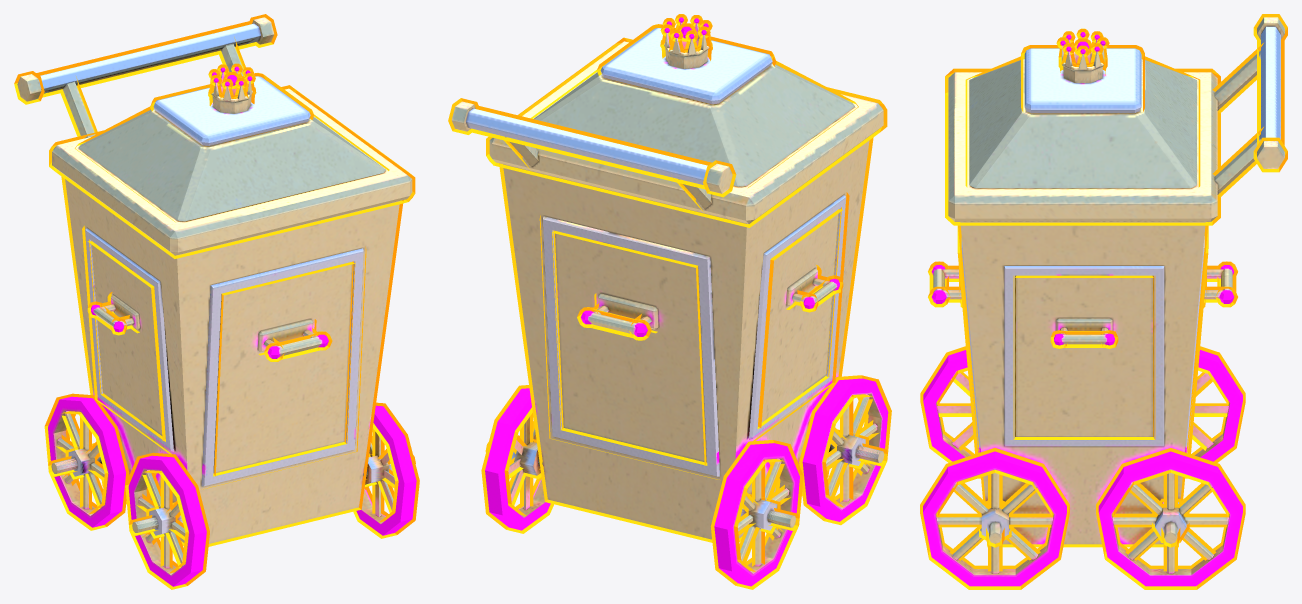
The model's file is Gold_Wheelie_Bin.glb.
3 renders of one model, left to right at view 1: azimuth 30°, elevation 25°; view 2: azimuth 150°, elevation 25°; view 3: azimuth 270°, elevation 25°, orthographic. The views are drawn at different scales.
Visible parts, largest first — view 1: Pull_Backplate.004, Pull_Backplate.001; view 2: Pull_Backplate.004, Pull_Backplate.001; view 3: Pull_Backplate.004, Pull_Backplate.001.
Part boxes in pixels (x1=…): Pull_Backplate.004: x1=17, y1=17, x2=416, y2=586; Pull_Backplate.001: x1=14, y1=14, x2=419, y2=589; Pull_Backplate.004: x1=451, y1=17, x2=888, y2=586; Pull_Backplate.001: x1=448, y1=14, x2=891, y2=589; Pull_Backplate.004: x1=923, y1=17, x2=1284, y2=586; Pull_Backplate.001: x1=920, y1=14, x2=1287, y2=589.
Size of the model in its own units: 0.5386 by 0.8375 by 0.5664.
2 materials, 1 textured.
